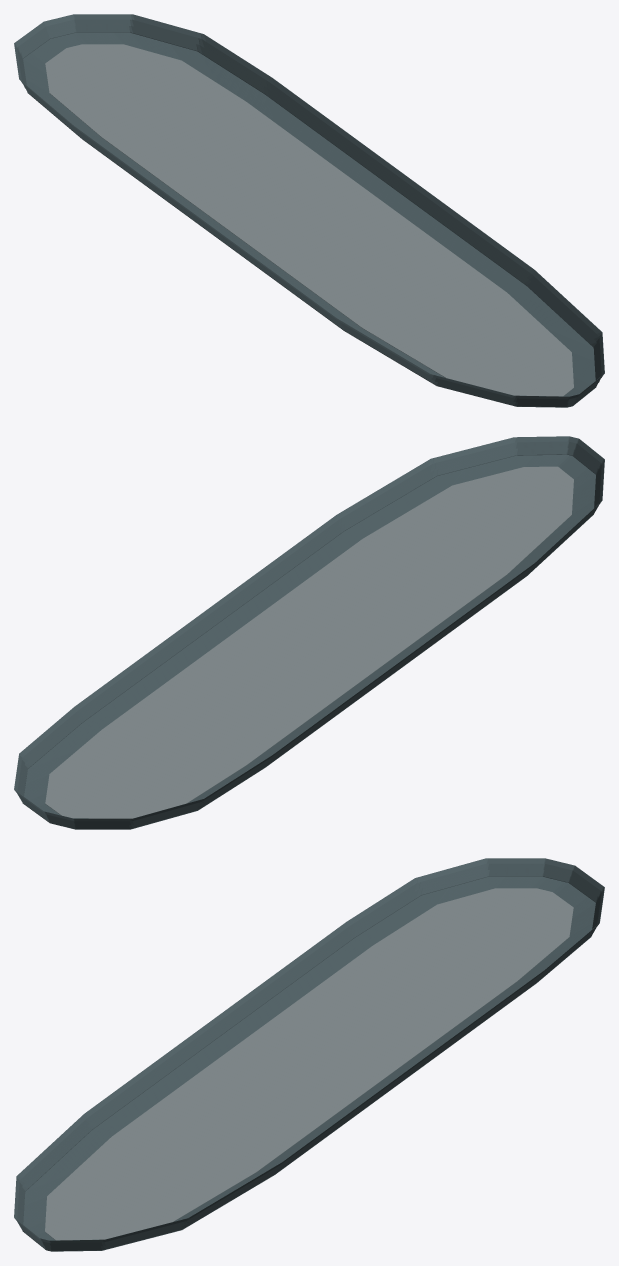
The model's file is AST-HUL-001.glb.
The picture shows the model from 3 angles, top to bottom: view 1: azimuth 30°, elevation 25°; view 2: azimuth 150°, elevation 25°; view 3: azimuth 330°, elevation 25°; orthographic projection.
Parts seen in each view (by area): view 1: HUL_KeelPan, HUL_LowerBand_00, HUL_LowerBand_03, HUL_LowerBand_02, HUL_LowerBand_04, HUL_LowerBand_01; view 2: HUL_KeelPan, HUL_LowerBand_00, HUL_LowerBand_03, HUL_LowerBand_02, HUL_LowerBand_04, HUL_LowerBand_01; view 3: HUL_KeelPan, HUL_LowerBand_00, HUL_LowerBand_03, HUL_LowerBand_02, HUL_LowerBand_04, HUL_LowerBand_01.
Part boxes in pixels (x1,y1,x2,y2): HUL_KeelPan: (45,44,573,396); HUL_LowerBand_00: (23,32,595,396); HUL_LowerBand_03: (17,19,601,403); HUL_LowerBand_02: (20,26,598,407); HUL_LowerBand_04: (14,14,604,399); HUL_LowerBand_01: (23,32,596,407); HUL_KeelPan: (45,466,573,818); HUL_LowerBand_00: (24,454,595,815); HUL_LowerBand_03: (17,441,601,825); HUL_LowerBand_02: (20,448,598,829); HUL_LowerBand_04: (14,436,604,821); HUL_LowerBand_01: (22,454,595,829); HUL_KeelPan: (45,888,573,1240); HUL_LowerBand_00: (23,876,595,1240); HUL_LowerBand_03: (17,863,601,1247); HUL_LowerBand_02: (20,870,598,1251); HUL_LowerBand_04: (14,858,604,1243); HUL_LowerBand_01: (22,876,595,1251).
Size of the model in its own units: 240 by 20 by 1082.
2 materials, 2 textured.
